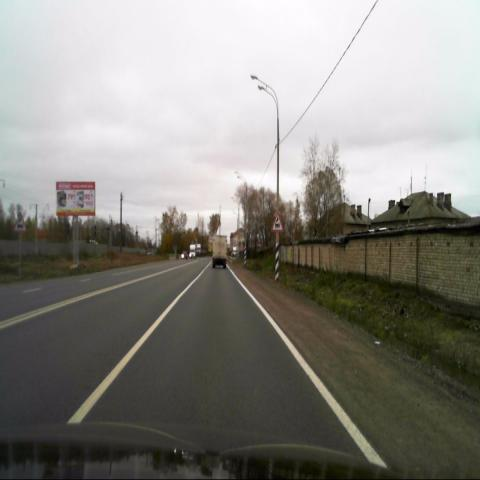1_2: (271, 212, 282, 232)
